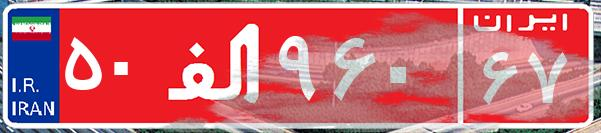0: (385, 28, 445, 110), (110, 28, 158, 105)
5: (57, 26, 110, 107)
6: (330, 28, 385, 110), (475, 38, 525, 113)
7: (525, 38, 570, 115)
9: (273, 28, 330, 110)
الف: (158, 15, 273, 115)
